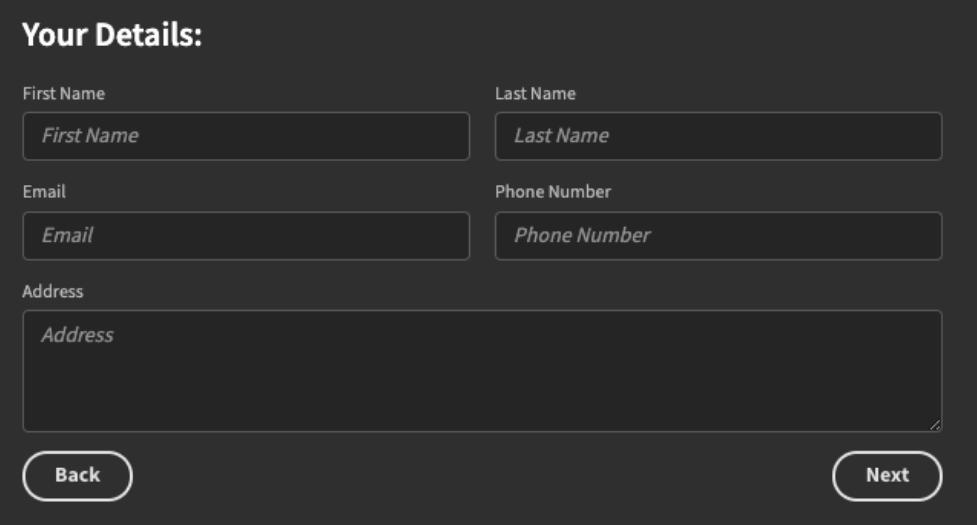button: (831, 450, 945, 502), (26, 450, 133, 504)
input: (495, 111, 946, 166), (20, 209, 474, 263), (21, 111, 474, 165), (496, 208, 947, 262)
label: (497, 184, 615, 205), (23, 84, 108, 107), (495, 85, 579, 107), (23, 284, 85, 303), (20, 183, 69, 202)
